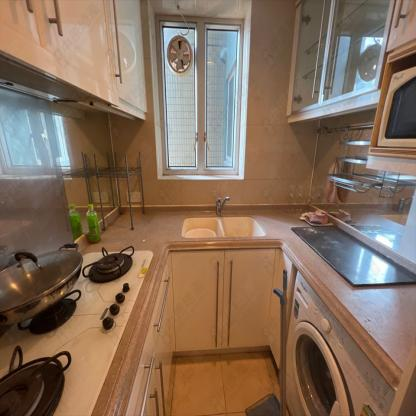Cupboard: (116, 249, 295, 415), (0, 0, 150, 120), (287, 1, 416, 119)
Exhaust Fan: (169, 35, 193, 75)
Faucet: (209, 191, 233, 212)
Microwave: (374, 67, 416, 149)
Sink: (177, 214, 266, 237)
Stove: (1, 251, 155, 413)
